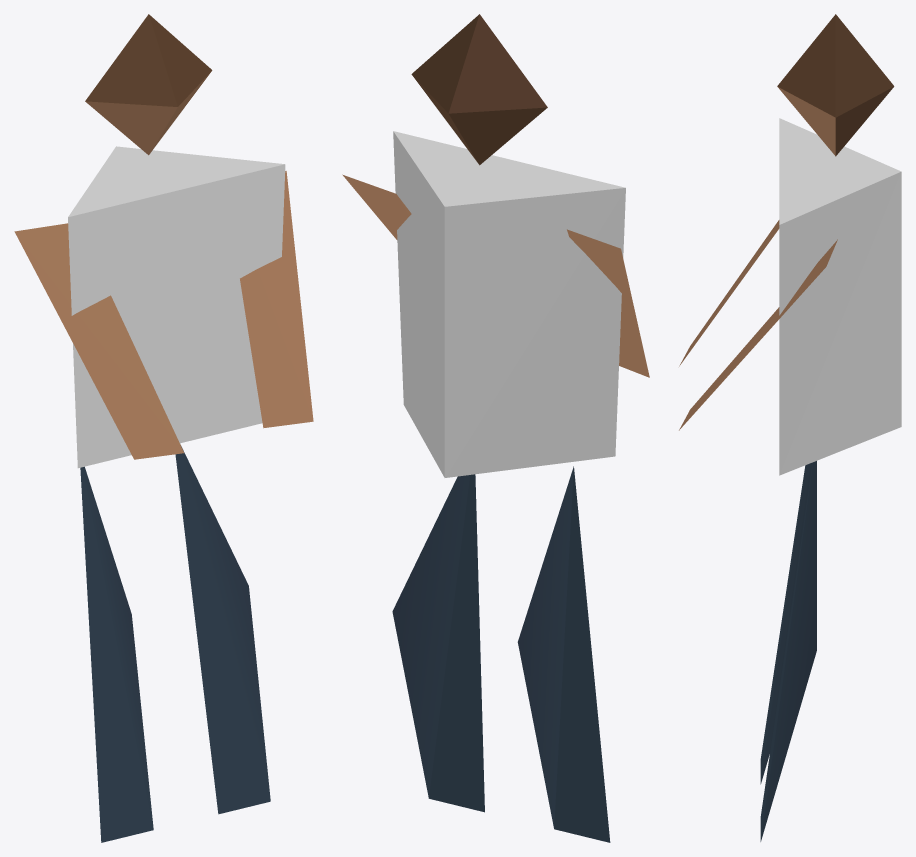
File: fan-09.glb
3 renders of one model, left to right at view 1: azimuth 30°, elevation 25°; view 2: azimuth 150°, elevation 25°; view 3: azimuth 270°, elevation 25°, orthographic. The views are drawn at different scales.
Visible parts, largest first — view 1: fan-09; view 2: fan-09; view 3: fan-09.
Boxes of the visible parts, <box> form: fan-09: <box>14,14,313,842</box>; fan-09: <box>342,14,649,842</box>; fan-09: <box>679,14,901,841</box>.
Bounding box in the file's own units: 0.66 × 1.85 × 0.475.
